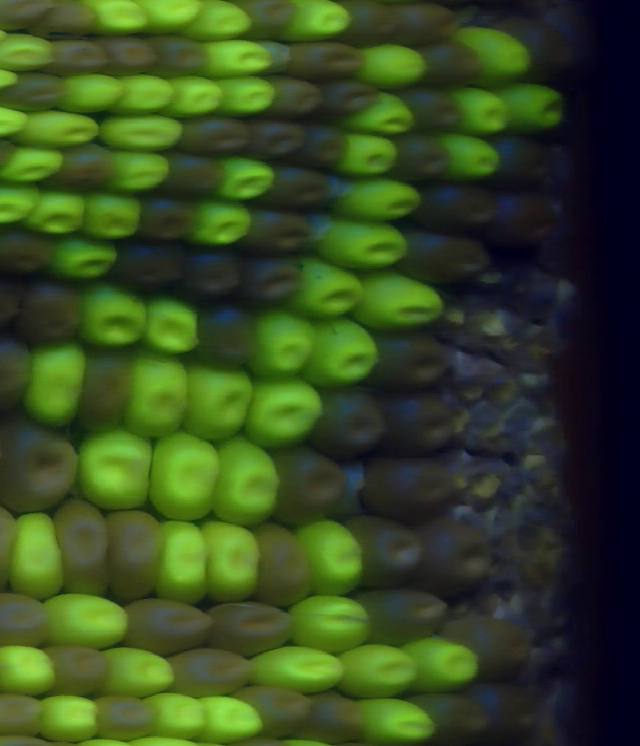fluorescent: (146, 438, 228, 525), (194, 510, 267, 604), (240, 375, 324, 449), (39, 589, 138, 651), (20, 342, 89, 427), (78, 427, 147, 510), (216, 444, 281, 531), (8, 512, 75, 596), (303, 318, 373, 397), (359, 269, 444, 334), (182, 363, 253, 439), (278, 594, 373, 649), (92, 643, 184, 696), (457, 27, 535, 89), (126, 357, 189, 433), (297, 527, 367, 593), (344, 694, 438, 743), (77, 285, 146, 351), (337, 645, 421, 699), (158, 523, 209, 608), (335, 177, 425, 224), (403, 638, 484, 690), (255, 309, 316, 378), (253, 645, 346, 689), (136, 292, 197, 356), (320, 219, 402, 265), (211, 150, 278, 206), (195, 696, 274, 743), (361, 44, 433, 95), (297, 255, 354, 318), (82, 194, 149, 247), (52, 235, 122, 285), (34, 691, 106, 739), (100, 152, 175, 197), (103, 118, 188, 157), (141, 694, 211, 740), (0, 640, 52, 700), (286, 1, 353, 47), (187, 202, 252, 249), (190, 1, 260, 44), (210, 37, 270, 85), (0, 37, 69, 78), (28, 193, 94, 235), (455, 87, 502, 144), (508, 84, 568, 128), (168, 74, 222, 122), (0, 150, 66, 189), (365, 91, 414, 139), (86, 1, 150, 37), (348, 139, 403, 180), (67, 78, 131, 113), (120, 76, 170, 120), (150, 1, 205, 41), (26, 112, 94, 143), (222, 76, 272, 114), (0, 180, 38, 230)
nonfluorescent: (0, 419, 88, 520), (342, 513, 423, 592), (47, 500, 112, 597), (417, 521, 496, 600), (499, 16, 586, 87), (446, 615, 534, 684), (401, 224, 496, 285), (98, 512, 162, 599), (276, 446, 344, 526), (365, 462, 463, 516), (77, 350, 136, 434), (118, 598, 210, 651), (318, 397, 395, 460), (384, 389, 456, 455), (44, 641, 122, 701), (253, 520, 311, 599), (233, 682, 316, 737), (19, 279, 89, 343), (354, 592, 461, 633), (376, 334, 449, 393), (208, 604, 299, 651), (490, 189, 560, 247), (413, 695, 492, 746), (478, 681, 540, 745), (115, 240, 195, 288), (167, 650, 254, 694), (411, 185, 489, 232), (198, 307, 253, 373), (303, 689, 364, 746), (338, 1, 405, 50), (251, 211, 314, 263), (397, 136, 455, 189), (267, 171, 332, 218), (180, 111, 251, 154), (418, 44, 490, 86), (93, 694, 160, 739), (172, 157, 232, 206), (400, 1, 461, 49), (292, 40, 367, 79), (300, 122, 352, 177), (0, 595, 56, 646), (184, 253, 243, 300), (242, 260, 302, 304), (149, 35, 213, 76), (495, 142, 557, 184), (62, 149, 122, 192), (139, 196, 191, 245), (0, 71, 66, 109), (245, 113, 302, 157), (0, 229, 56, 273), (408, 89, 459, 135), (104, 37, 164, 75), (263, 75, 317, 117), (51, 38, 109, 74), (0, 693, 47, 737), (325, 80, 380, 116), (245, 1, 296, 38), (48, 1, 102, 33), (0, 1, 52, 30)
